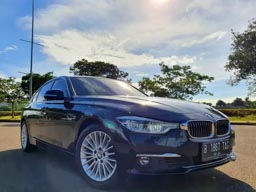plat: (203, 140, 230, 160)
